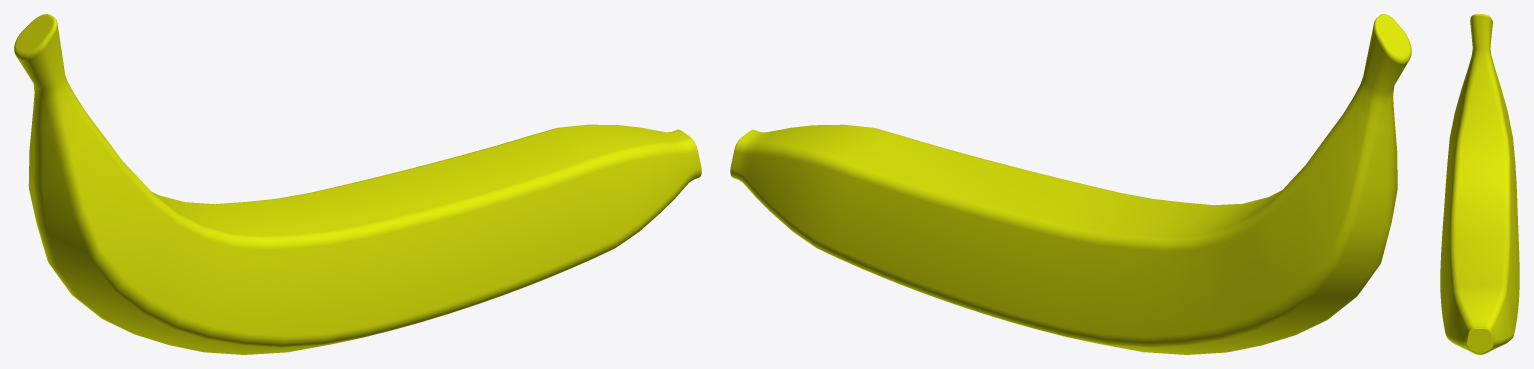
The model's file is Banana.fbx.
The picture shows the model from 3 angles, left to right: view 1: azimuth 30°, elevation 25°; view 2: azimuth 150°, elevation 25°; view 3: azimuth 270°, elevation 25°; orthographic projection. The views are drawn at different scales.
Visible parts, largest first — view 1: Plane; view 2: Plane; view 3: Plane.
Boxes of the visible parts, x1,y1,x2,y2 form: Plane: [14, 14, 701, 354]; Plane: [730, 14, 1411, 354]; Plane: [1440, 14, 1519, 354].
Bounding box in the file's own units: 1480 × 831 × 281.
